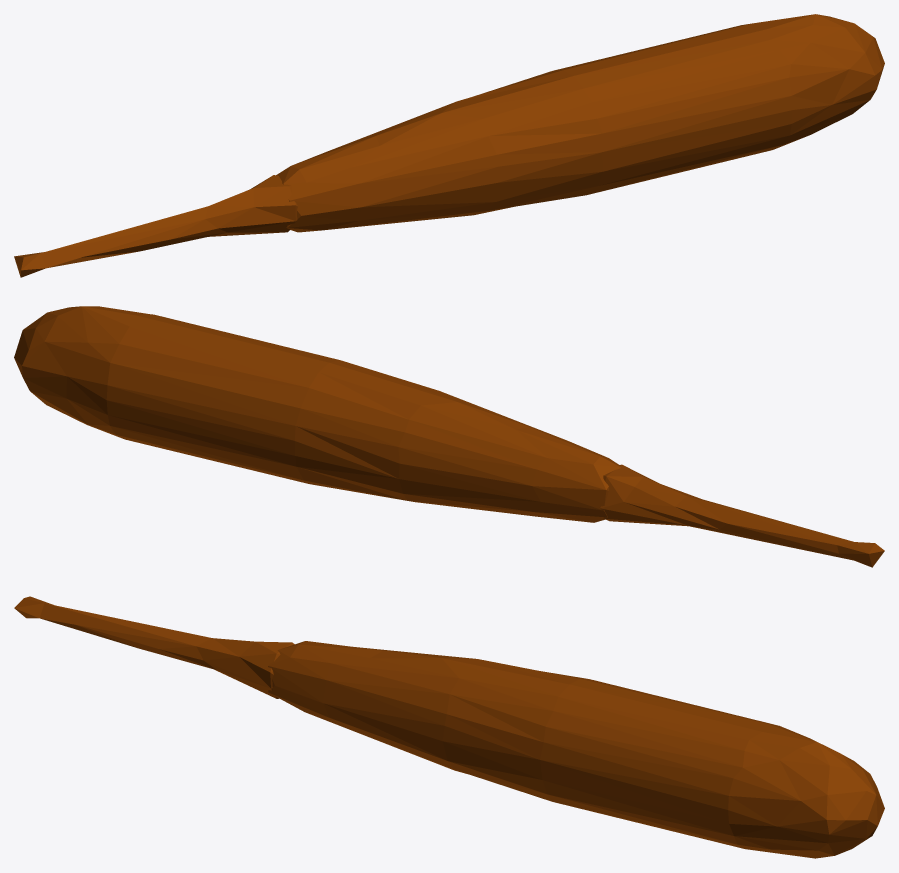
The model's file is bat.fbx.
The picture shows the model from 3 angles, top to bottom: view 1: azimuth 30°, elevation 25°; view 2: azimuth 150°, elevation 25°; view 3: azimuth 330°, elevation 25°; orthographic projection.
Visible parts, largest first — view 1: bat; view 2: bat; view 3: bat.
Boxes of the visible parts, x1,y1,x2,y2 form: bat: (14, 14, 884, 277); bat: (14, 306, 884, 567); bat: (14, 596, 884, 858).
Size of the model in its own units: 773 by 100 by 100.
